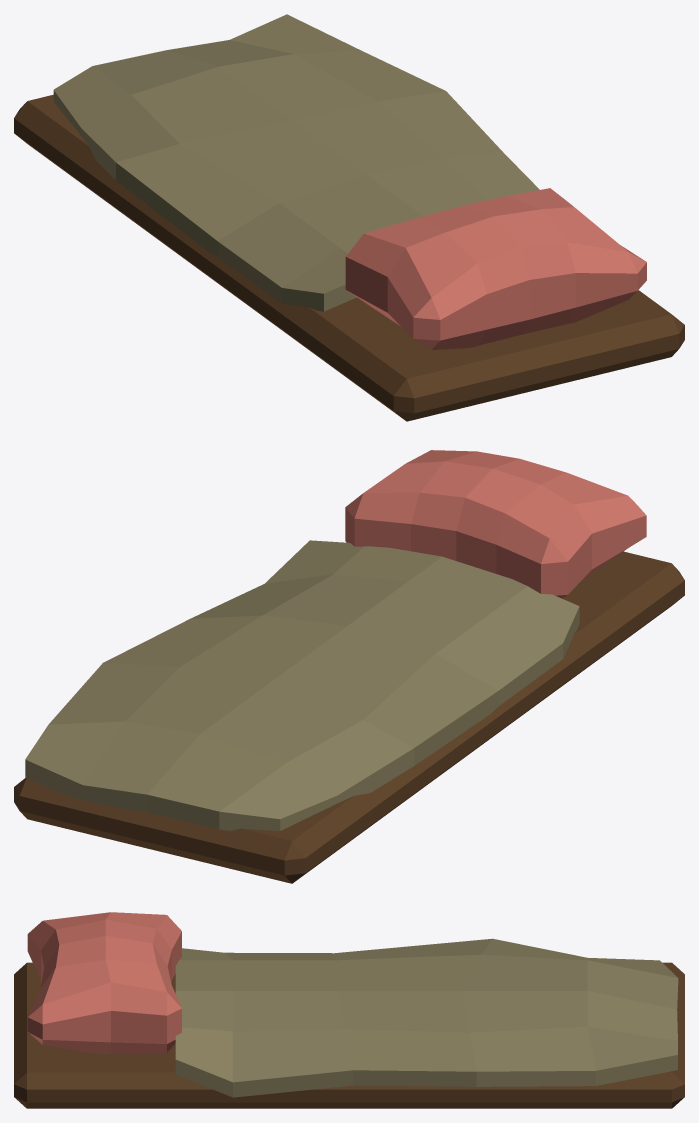
The model's file is SM_sleeping_bag.fbx.
3 renders of one model, top to bottom at view 1: azimuth 30°, elevation 25°; view 2: azimuth 150°, elevation 25°; view 3: azimuth 270°, elevation 25°, orthographic. The views are drawn at different scales.
Parts seen in each view (by area): view 1: sleeping_bag; view 2: sleeping_bag; view 3: sleeping_bag.
Boxes of the visible parts, left/top/right/bottom form: sleeping_bag: left=14, top=14, right=684, bottom=421; sleeping_bag: left=14, top=450, right=684, bottom=883; sleeping_bag: left=14, top=912, right=684, bottom=1108.
Bounding box in the file's own units: 107 × 44.39 × 229.
